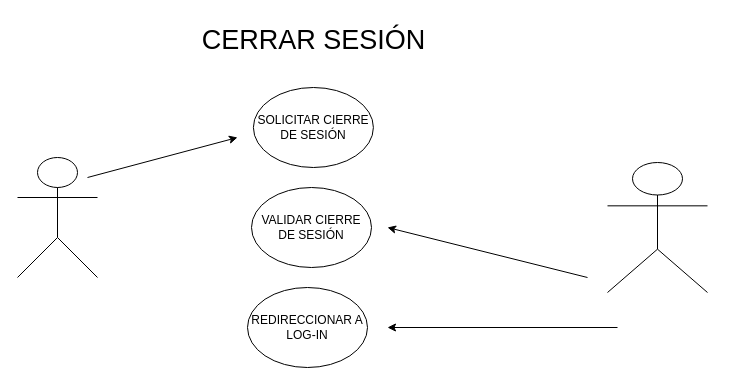
This 742x385 diagram has some shape labels left out. The shapes that lost their labels are listed below. From the top down, each one's box as (x1, y1, x2, y2) in pixels, then its label:
(16, 156, 98, 278): USUARIO
(606, 162, 708, 292): SISTEMA / APLICACION
